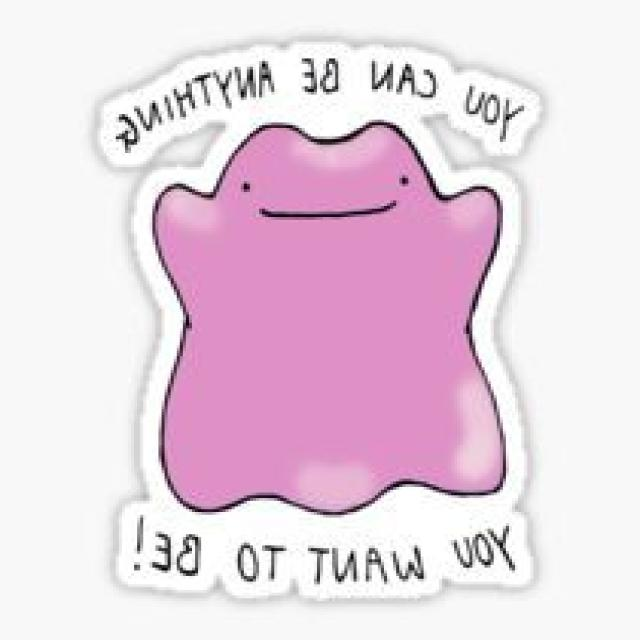Ditto: (147, 120, 513, 524)
